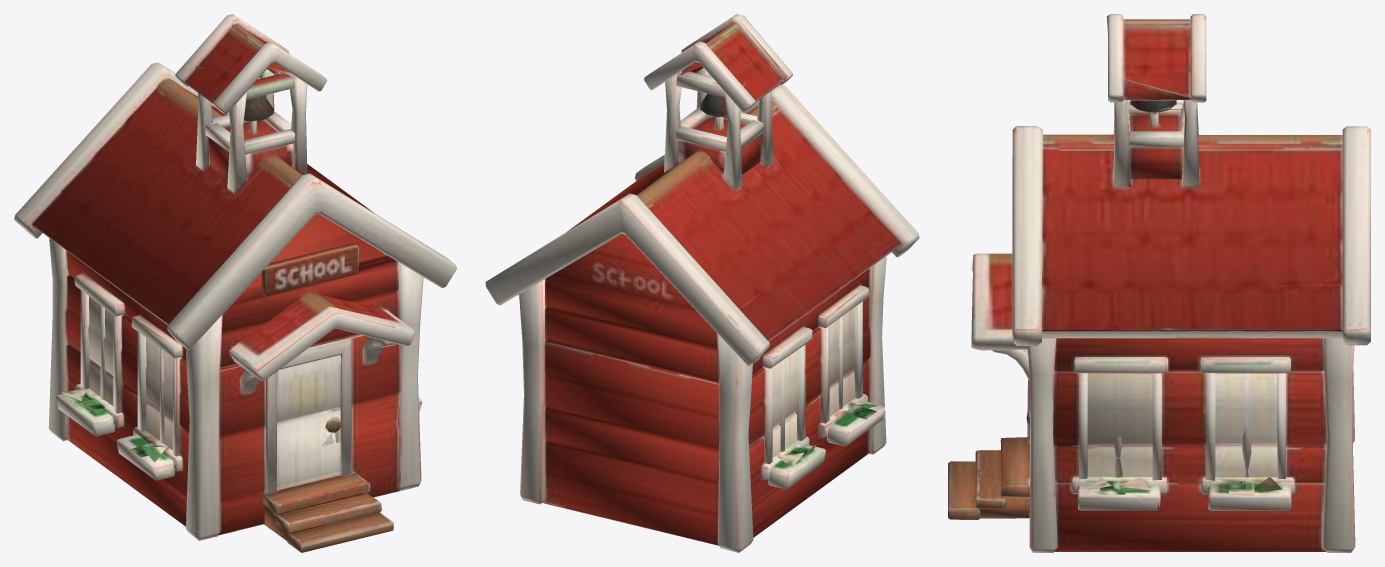
Rendered from school.glb.
3 views of the same model, side by side, from view 1: azimuth 30°, elevation 25°; view 2: azimuth 150°, elevation 25°; view 3: azimuth 270°, elevation 25° (orthographic). The views are drawn at different scales.
Size of the model in its own units: 0.6353 by 0.9521 by 0.7598.
1 material, 1 textured.
